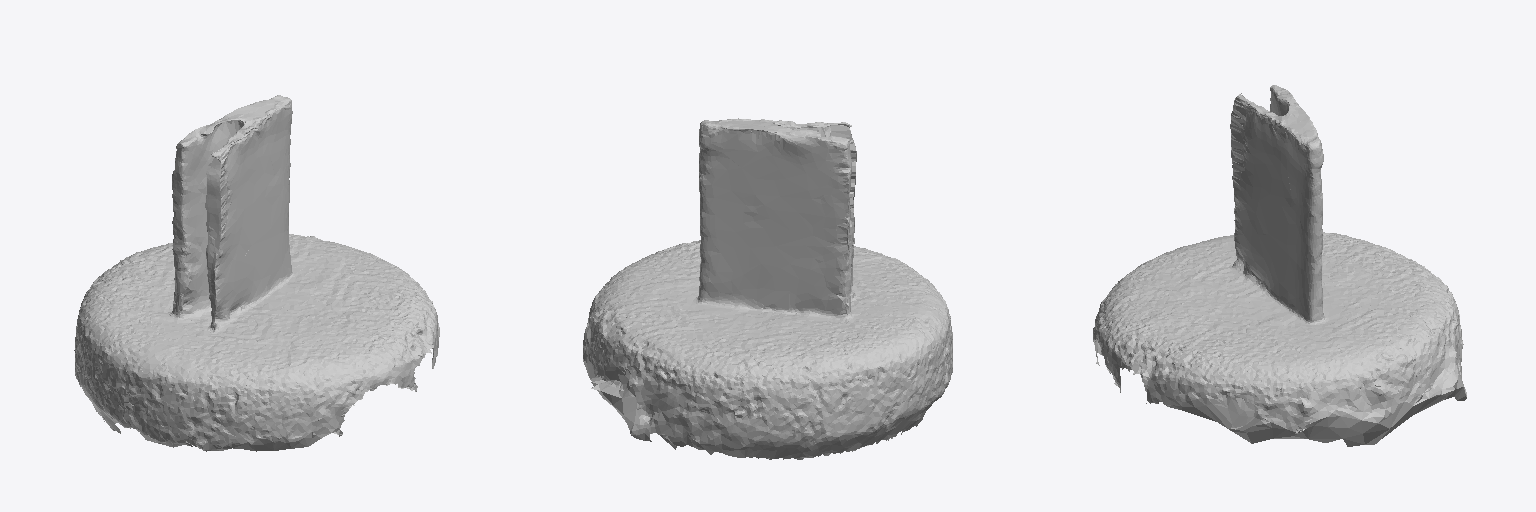
Rendered from uchebnik litri.obj.
3 renders of one model, left to right at view 1: azimuth 30°, elevation 25°; view 2: azimuth 150°, elevation 25°; view 3: azimuth 270°, elevation 25°, orthographic.
Parts seen in each view (by area): view 1: litra_badsturedMesh_texturedMesh.001; view 2: litra_badsturedMesh_texturedMesh.001; view 3: litra_badsturedMesh_texturedMesh.001.
Part boxes in pixels (bbox=[...]): litra_badsturedMesh_texturedMesh.001: bbox=[74, 95, 439, 451]; litra_badsturedMesh_texturedMesh.001: bbox=[583, 118, 952, 459]; litra_badsturedMesh_texturedMesh.001: bbox=[1093, 85, 1466, 446].
Size of the model in its own units: 1.29 by 1.06 by 1.3.